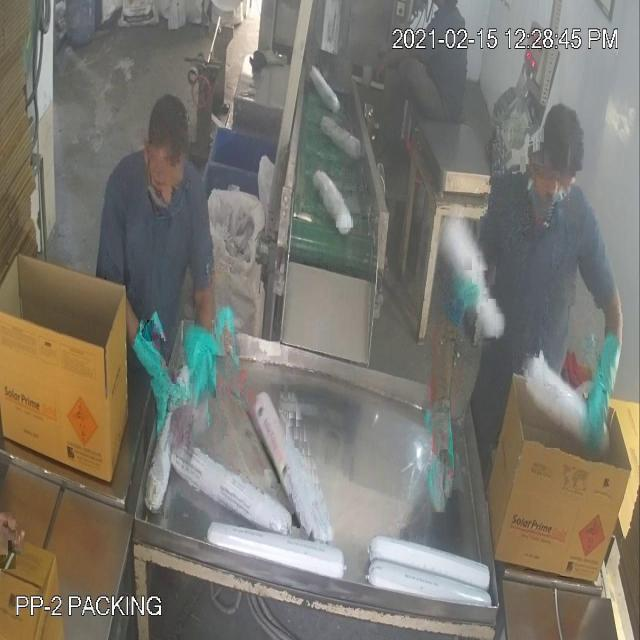Gloves: (48, 47, 597, 378)
